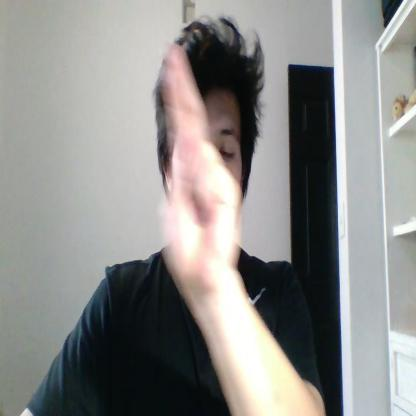R: (164, 42, 240, 290)
